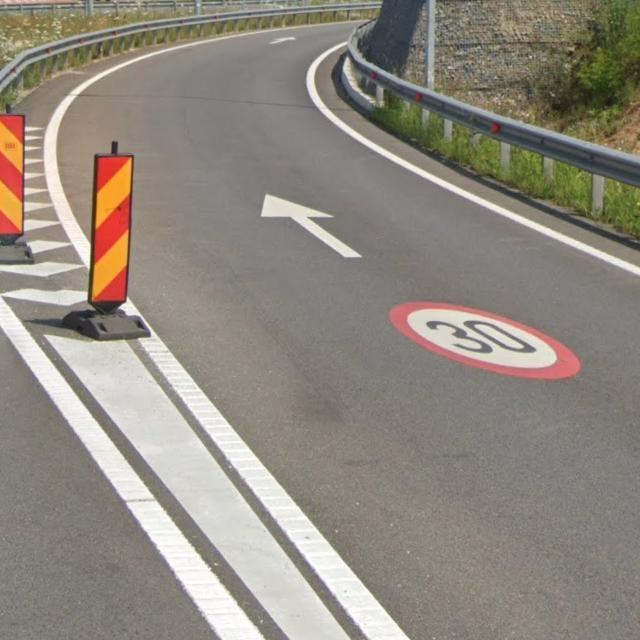forb_speed_over_30: (386, 294, 582, 382)
